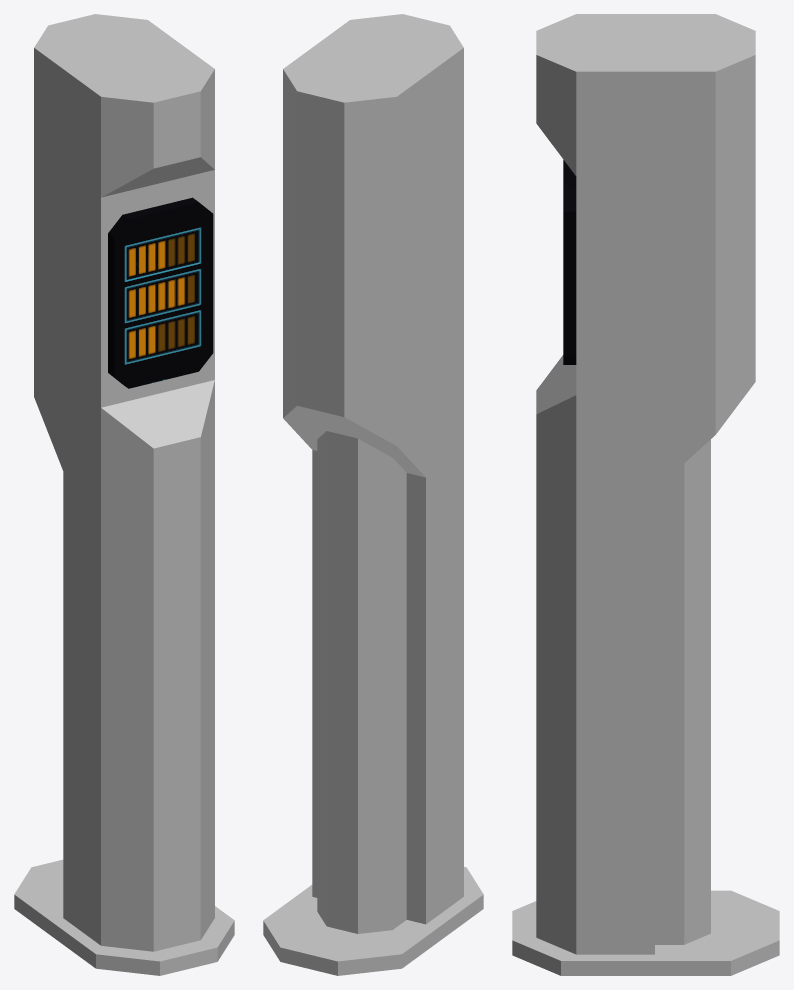
The model's file is SM_Control_Panel_1.fbx.
3 renders of one model, left to right at view 1: azimuth 30°, elevation 25°; view 2: azimuth 150°, elevation 25°; view 3: azimuth 270°, elevation 25°, orthographic. The views are drawn at different scales.
Visible parts, largest first — view 1: SM_Control_Panel_1; view 2: SM_Control_Panel_1; view 3: SM_Control_Panel_1.
Boxes of the visible parts, x1,y1,x2,y2 form: SM_Control_Panel_1: (14, 14, 234, 975); SM_Control_Panel_1: (263, 14, 483, 975); SM_Control_Panel_1: (512, 14, 779, 975).
Size of the model in its own units: 16.94 by 101 by 27.2.
